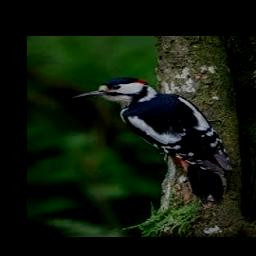Woodpecker: (72, 77, 232, 206)
